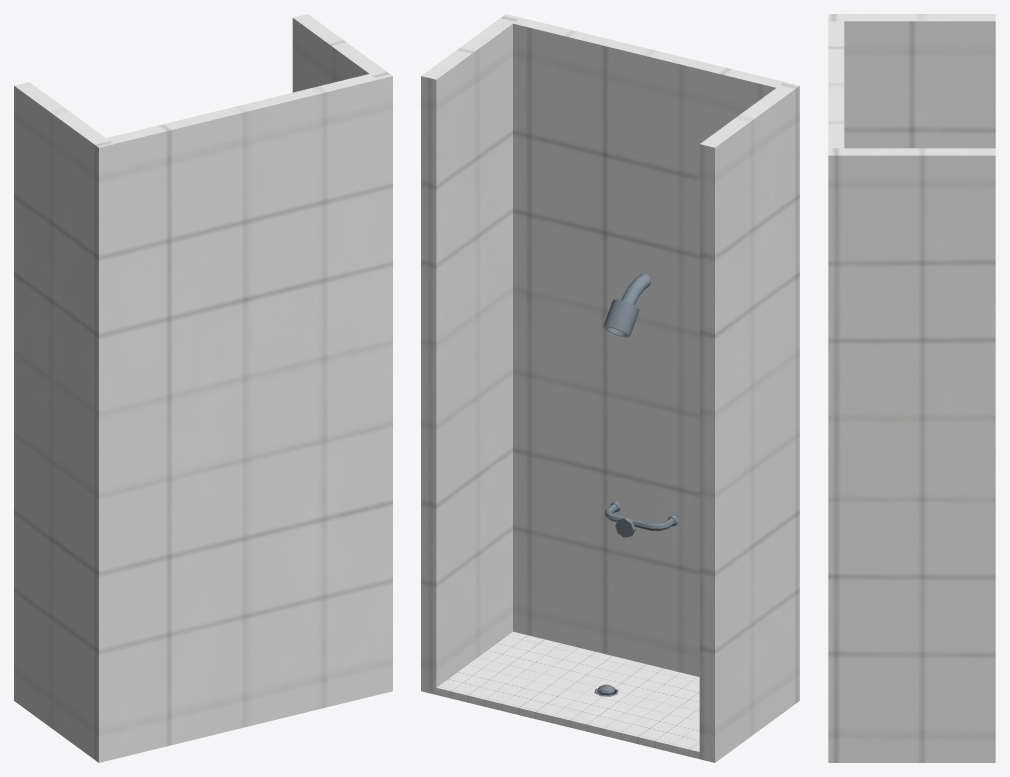
Rendered from shower_booth1.fbx.
3 renders of one model, left to right at view 1: azimuth 30°, elevation 25°; view 2: azimuth 150°, elevation 25°; view 3: azimuth 270°, elevation 25°, orthographic.
Visible parts, largest first — view 1: shower_booth1; view 2: shower_booth1; view 3: shower_booth1.
Boxes of the visible parts, <box> form: shower_booth1: <box>14,14,392,762</box>; shower_booth1: <box>421,14,799,762</box>; shower_booth1: <box>828,14,995,762</box>.
Size of the model in its own units: 200 by 400 by 100.
1 material, 1 textured.
